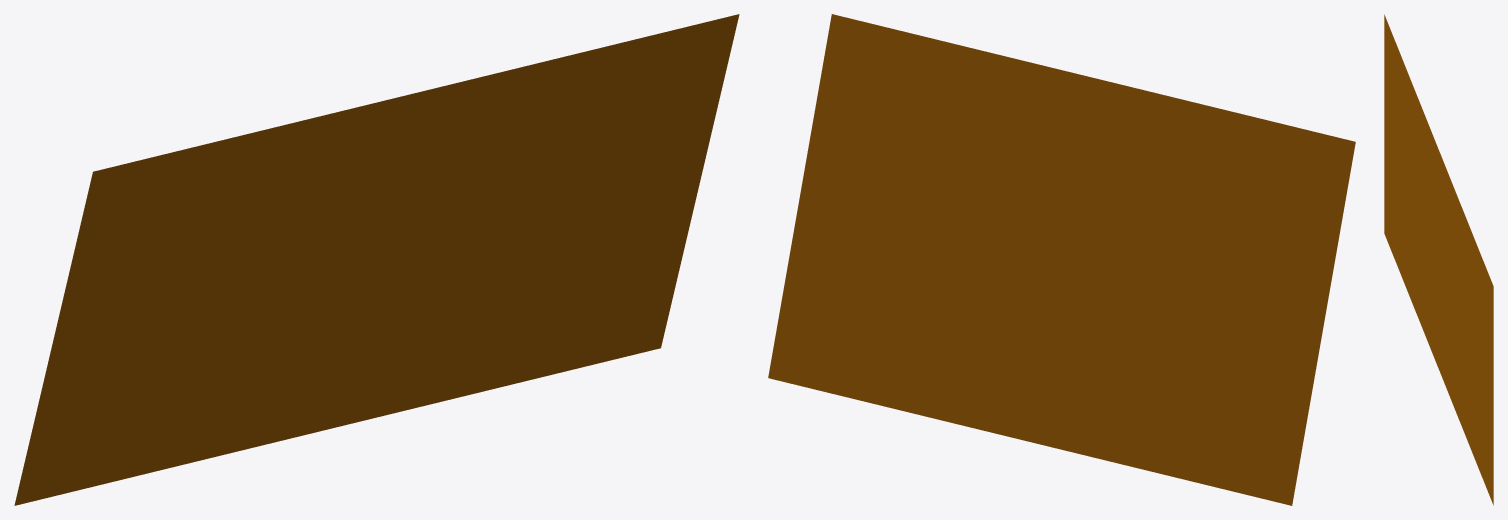
File: Comedy_CryptoBox_Button_10.glb
The picture shows the model from 3 angles, left to right: view 1: azimuth 30°, elevation 25°; view 2: azimuth 150°, elevation 25°; view 3: azimuth 270°, elevation 25°; orthographic projection. The views are drawn at different scales.
Visible parts, largest first — view 1: Button_10_collider_; view 2: Button_10_collider_; view 3: Button_10_collider_.
Boxes of the visible parts, x1,y1,x2,y2 form: Button_10_collider_: (14, 14, 739, 505); Button_10_collider_: (768, 14, 1355, 505); Button_10_collider_: (1384, 14, 1493, 505).
Size of the model in its own units: 0.19 by 0.11 by 0.04.
